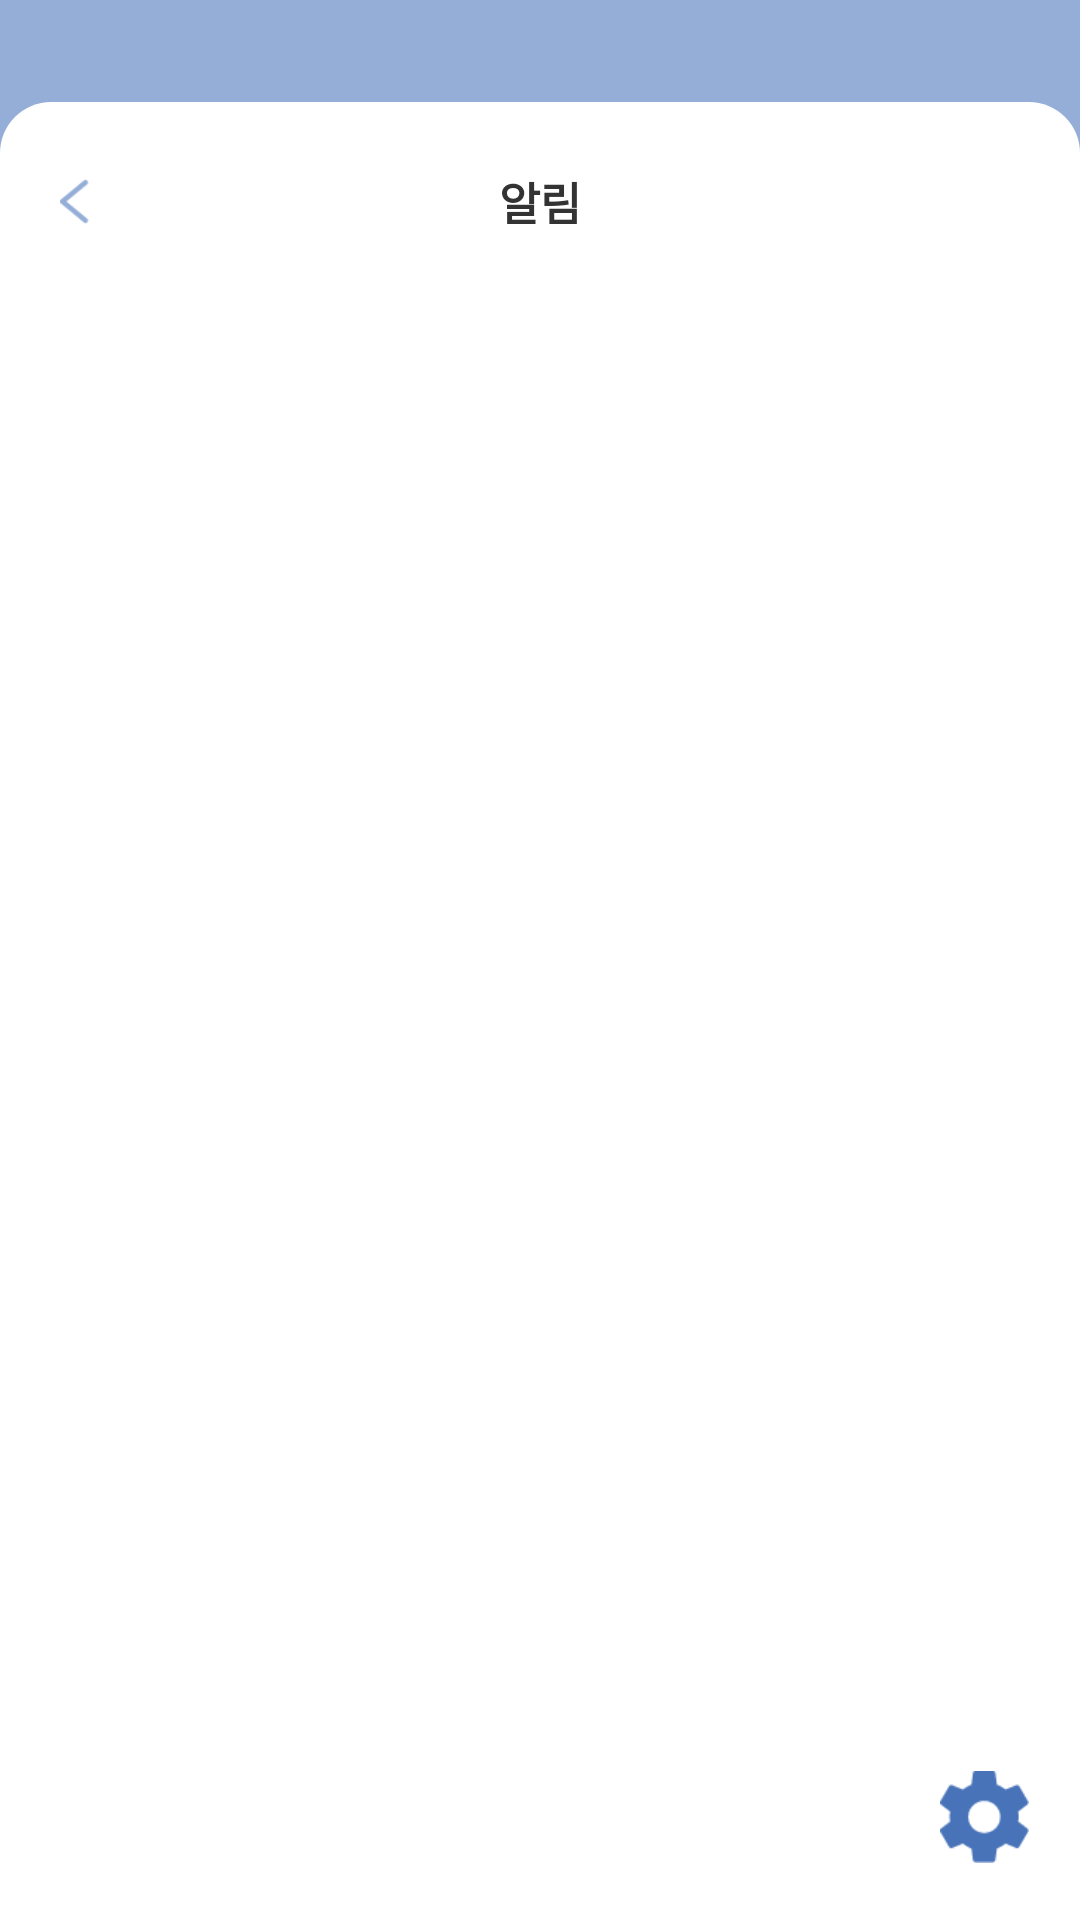

Where to tap for icons on this 1080px x 1920px app screen, as (x=x, y=y):
back: (x=74, y=202)
setting: (x=984, y=1817)
